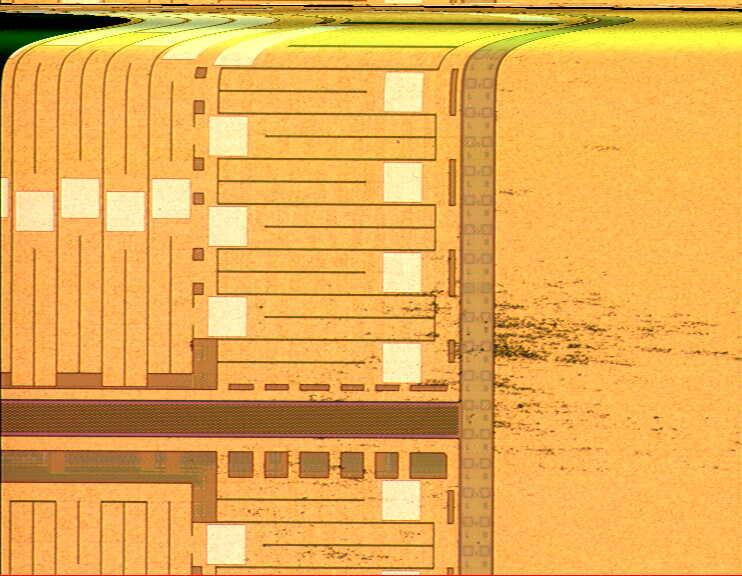SCRATCH: (238, 79, 742, 566)
